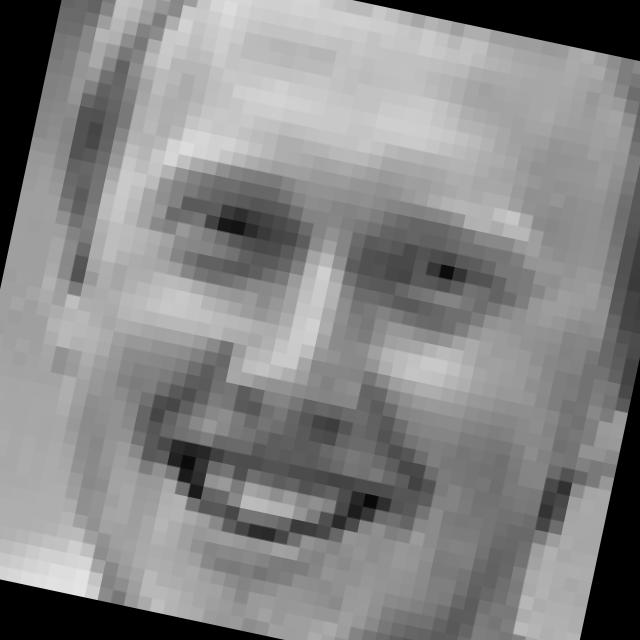happy: (63, 97, 558, 628)
